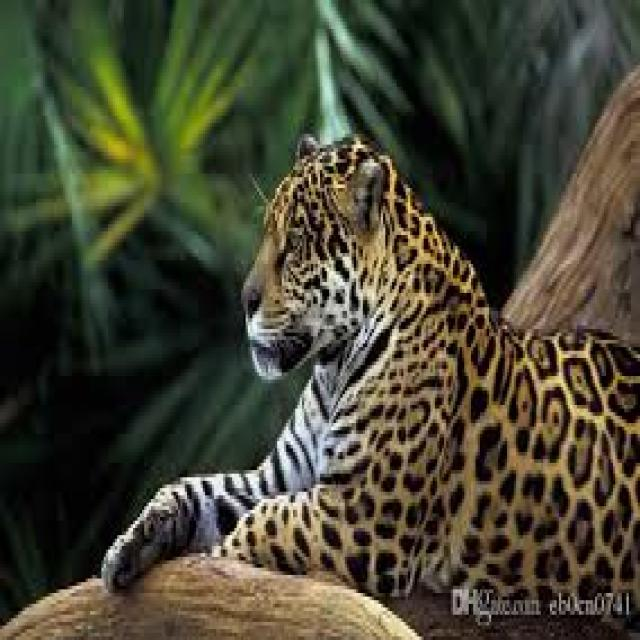Jaguar: (133, 123, 640, 633)
